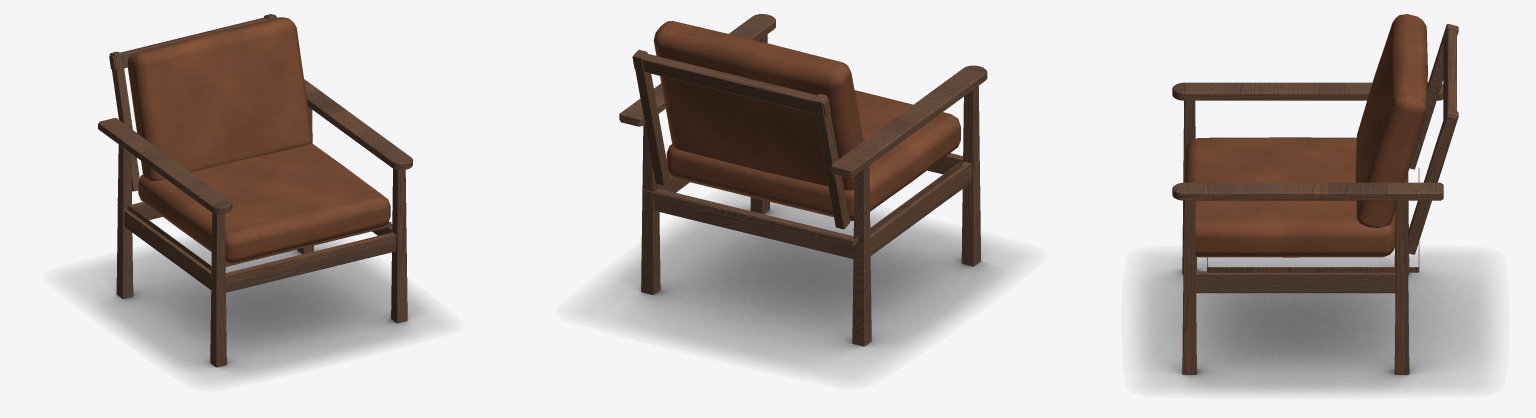
The model's file is armchair.glb.
3 renders of one model, left to right at view 1: azimuth 30°, elevation 25°; view 2: azimuth 150°, elevation 25°; view 3: azimuth 270°, elevation 25°, orthographic. The views are drawn at different scales.
Visible parts, largest first — view 1: armchair_LOD0, armchair_Shadow; view 2: armchair_LOD0, armchair_Shadow; view 3: armchair_LOD0, armchair_Shadow.
Part boxes in pixels (x1=…): armchair_LOD0: x1=98, y1=14, x2=412, y2=367; armchair_Shadow: x1=72, y1=241, x2=439, y2=380; armchair_LOD0: x1=619, y1=14, x2=987, y2=346; armchair_Shadow: x1=589, y1=195, x2=1017, y2=374; armchair_LOD0: x1=1172, y1=14, x2=1458, y2=374; armchair_Shadow: x1=1138, y1=252, x2=1491, y2=392.
Size of what is drawn, in the model's own units: 1.12 by 0.8523 by 1.19.
3 materials, 3 textured.
